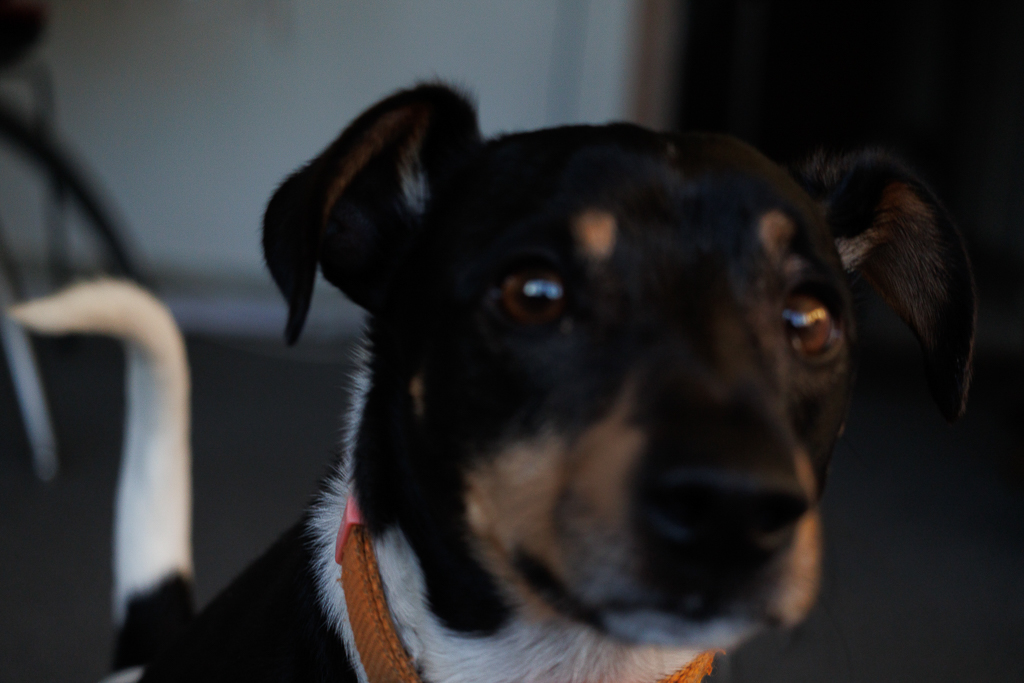Dog: (0, 67, 998, 683)
